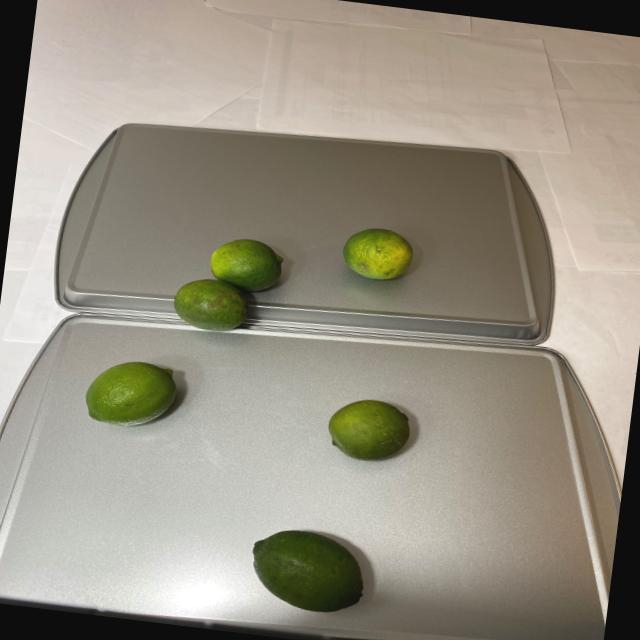lemon: (167, 204, 420, 358), (228, 522, 372, 620), (80, 348, 183, 440), (324, 396, 414, 466)
